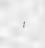one: (19, 19, 23, 28)
